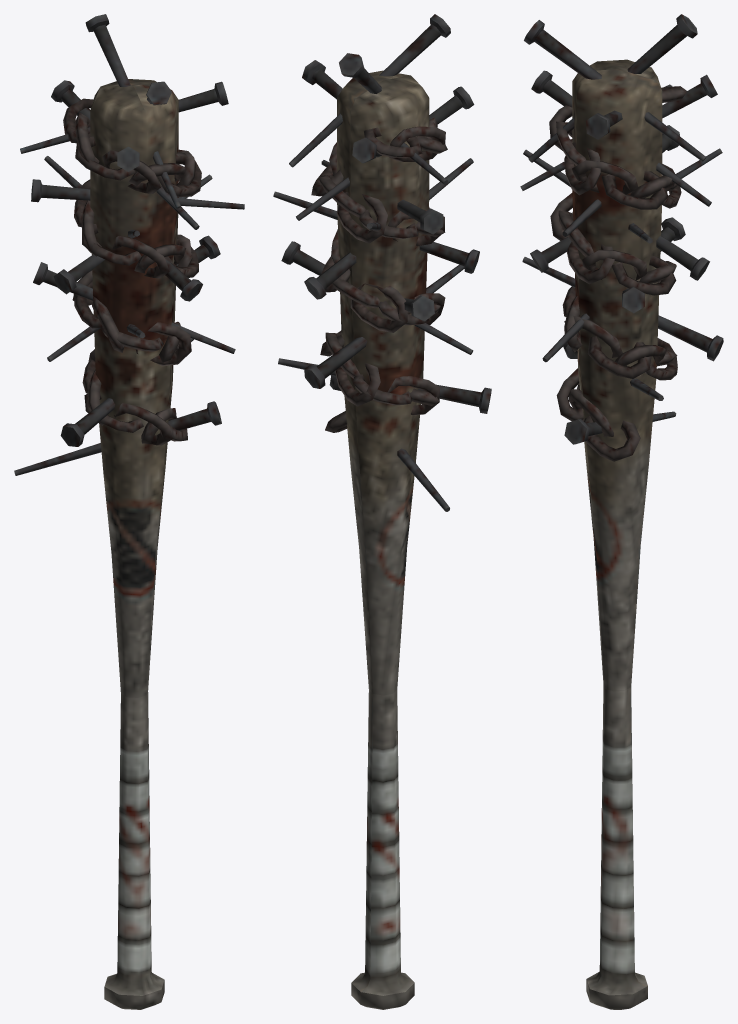
File: ratstick.fbx
3 views of the same model, side by side, from view 1: azimuth 30°, elevation 25°; view 2: azimuth 150°, elevation 25°; view 3: azimuth 270°, elevation 25° (orthographic). The views are drawn at different scales.
Visible parts, largest first — view 1: RatStick; view 2: RatStick; view 3: RatStick.
Boxes of the visible parts, <box> form: RatStick: <box>14,14,244,1009</box>; RatStick: <box>273,14,491,1009</box>; RatStick: <box>520,14,723,1009</box>.
Bounding box in the file's own units: 20.6 × 102 × 19.13.
1 material, 1 textured.
